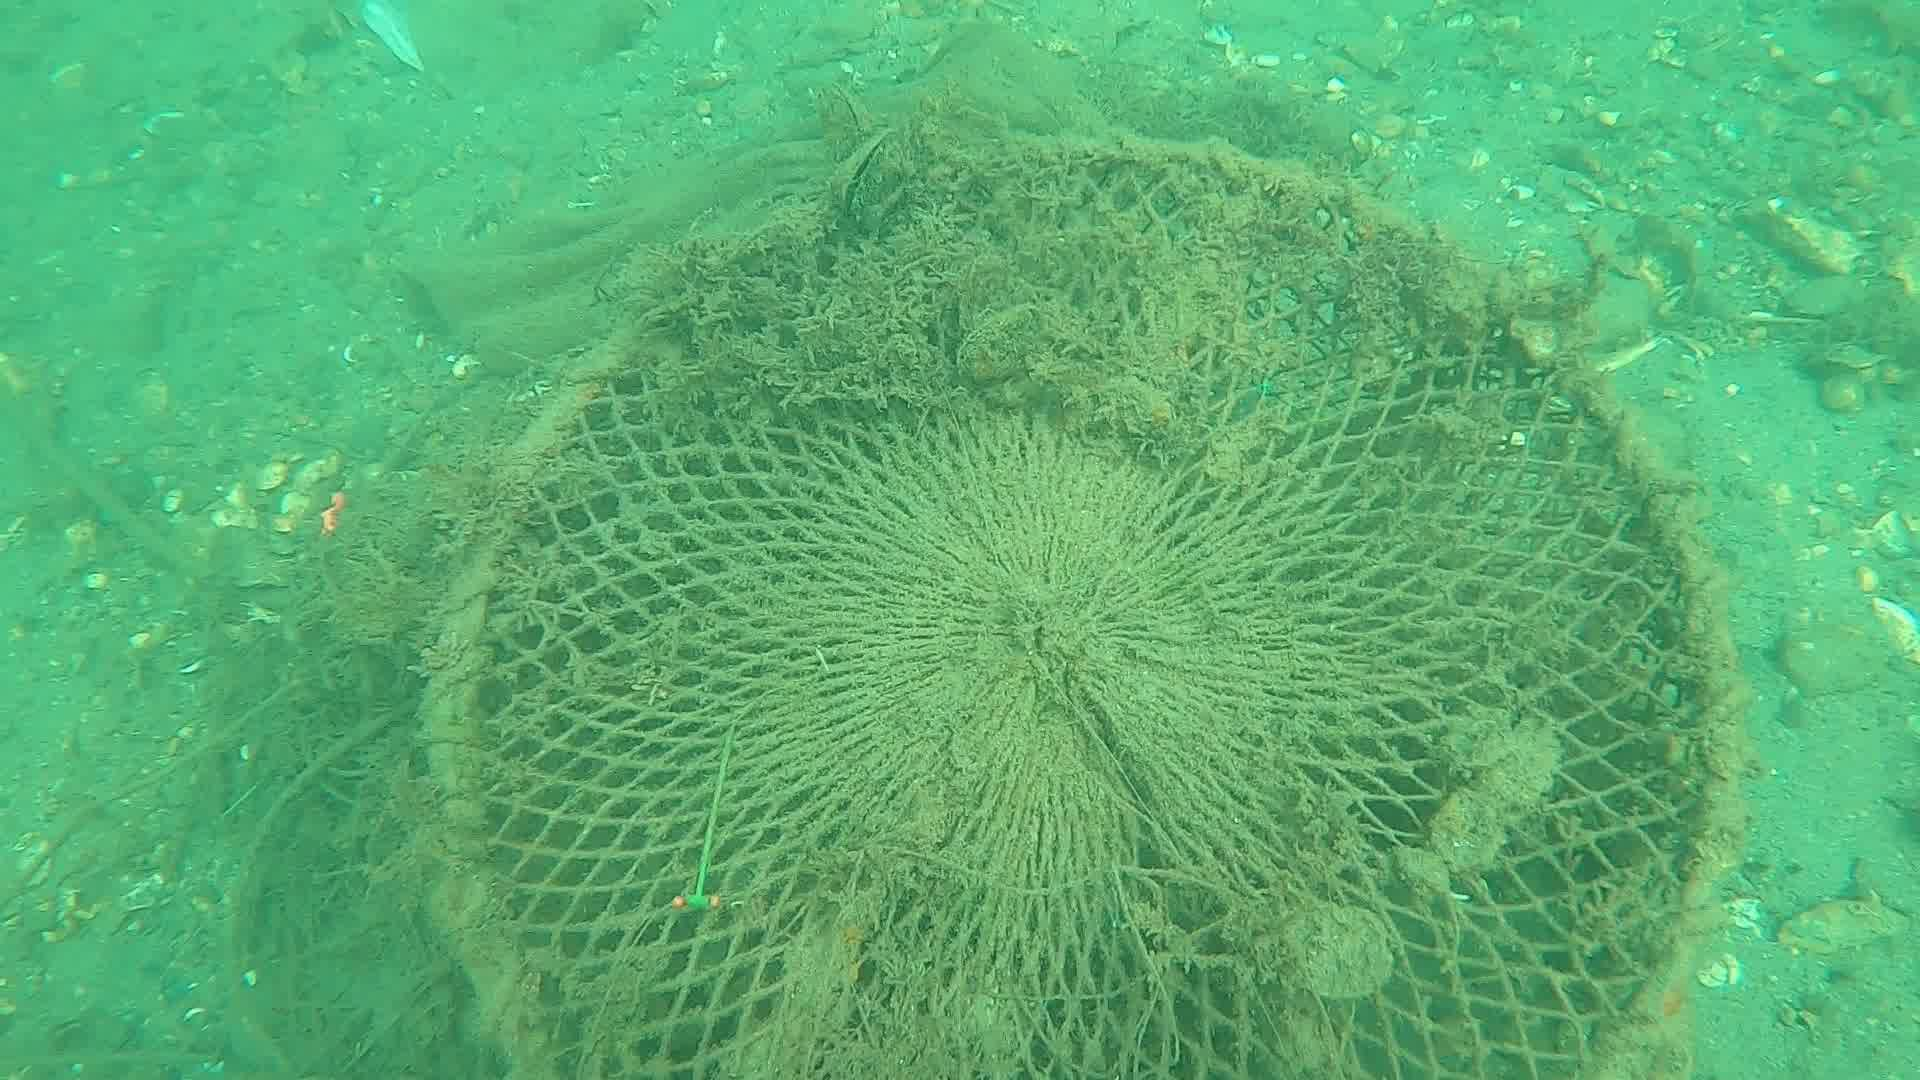circular fish trap: (413, 132, 1743, 1080)
